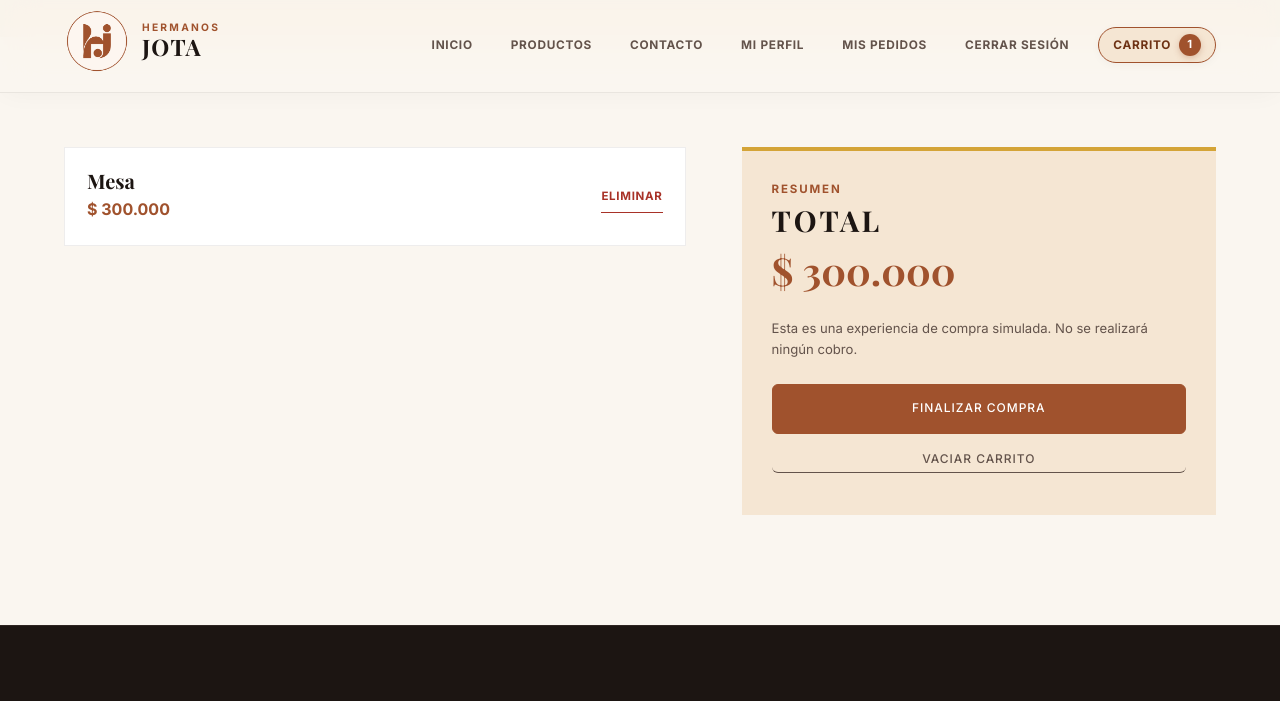
Scenario: authentication flow › keeps the cart when order creation fails
(page scrolled)
Click the button "Finalizar compra" at (979, 409), box 772,384 -> 1186,434
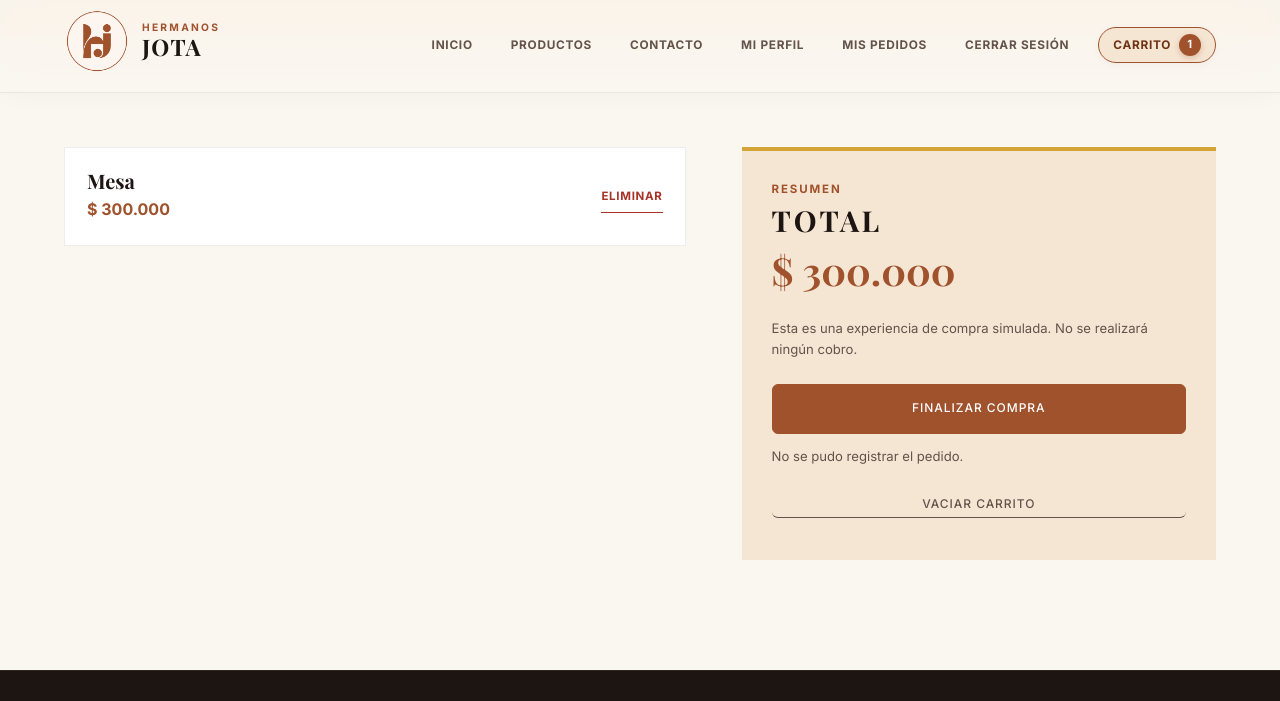
Expected: the heading "Mesa" is shown, 87,167 -> 135,194
Expected: the message reads "No se pudo registrar el pedido.", 772,448 -> 963,464
